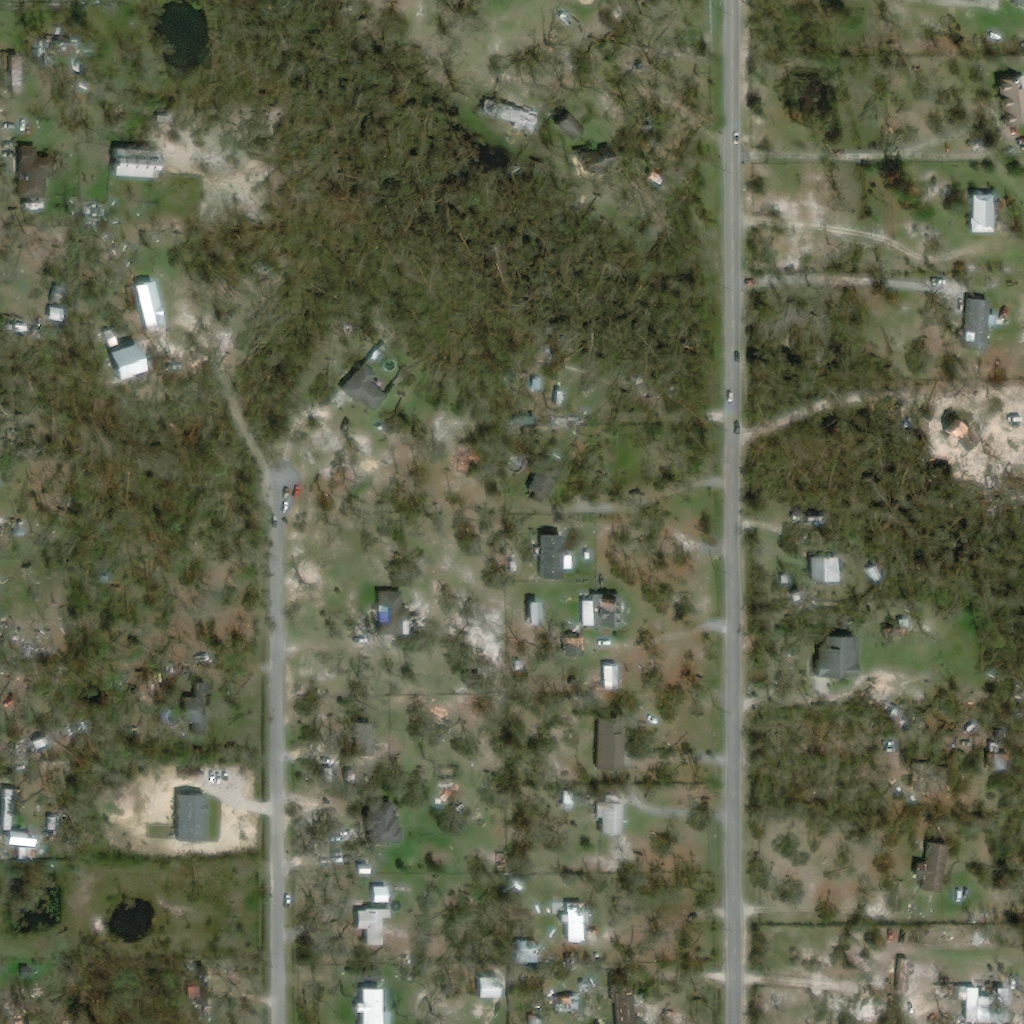destroyed: (554, 994, 578, 1013)
major_damage: (582, 592, 623, 630), (889, 613, 907, 640)
minor_damage: (955, 968, 1017, 1023), (479, 97, 540, 134), (915, 843, 950, 894), (109, 149, 155, 176), (0, 788, 24, 828), (6, 58, 23, 95), (513, 939, 540, 962), (613, 981, 631, 1010), (565, 638, 583, 658), (529, 1014, 542, 1023)
no_damage: (339, 363, 386, 410), (814, 635, 860, 678), (365, 801, 404, 845), (960, 297, 995, 344), (17, 143, 45, 198), (995, 75, 1023, 127), (969, 192, 1004, 232), (528, 460, 561, 502), (106, 343, 143, 379), (354, 988, 391, 1023), (134, 280, 162, 326), (561, 901, 593, 941), (596, 793, 626, 835), (598, 718, 624, 762), (542, 534, 565, 579), (181, 697, 209, 733), (357, 907, 391, 933), (197, 967, 212, 1008), (809, 557, 834, 581), (556, 109, 580, 133), (475, 976, 501, 998), (602, 664, 621, 694), (2, 829, 35, 843), (370, 341, 391, 363), (370, 886, 390, 903), (562, 791, 578, 811), (523, 600, 536, 622), (103, 329, 117, 347), (364, 968, 382, 981), (359, 864, 374, 874), (587, 553, 594, 561), (1014, 0, 1023, 6), (581, 981, 587, 988)
